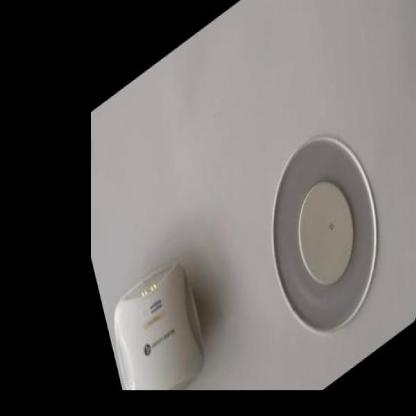light_off: (238, 57, 409, 387)
